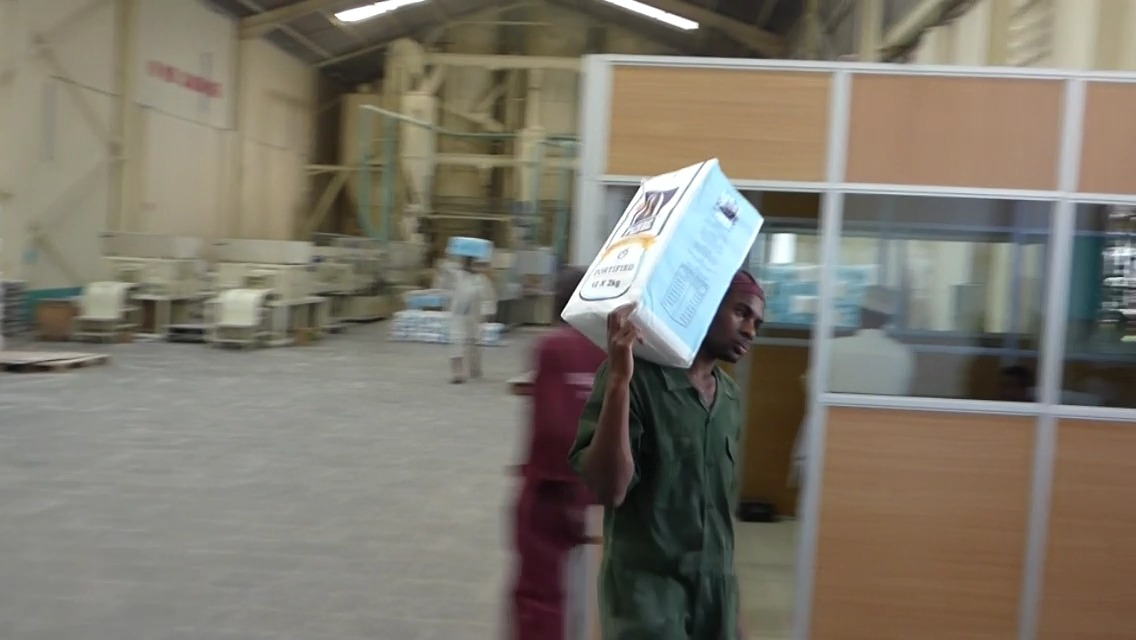wheat_flour_blue_label: (559, 156, 763, 369)
